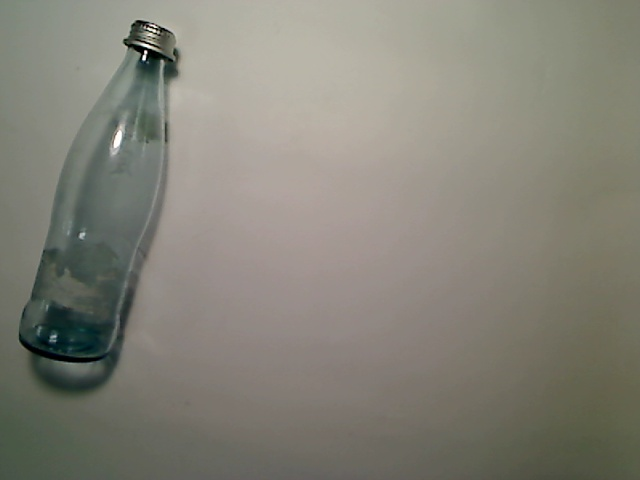bottle: (19, 19, 179, 364)
